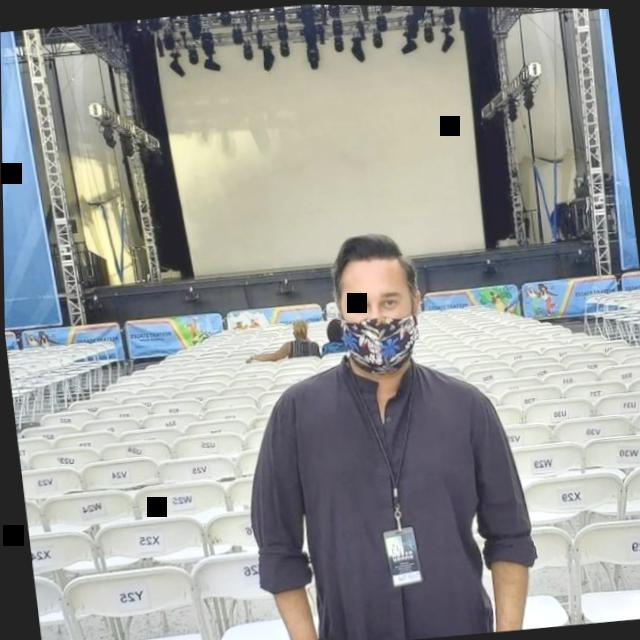Mask: (335, 263, 419, 373)
